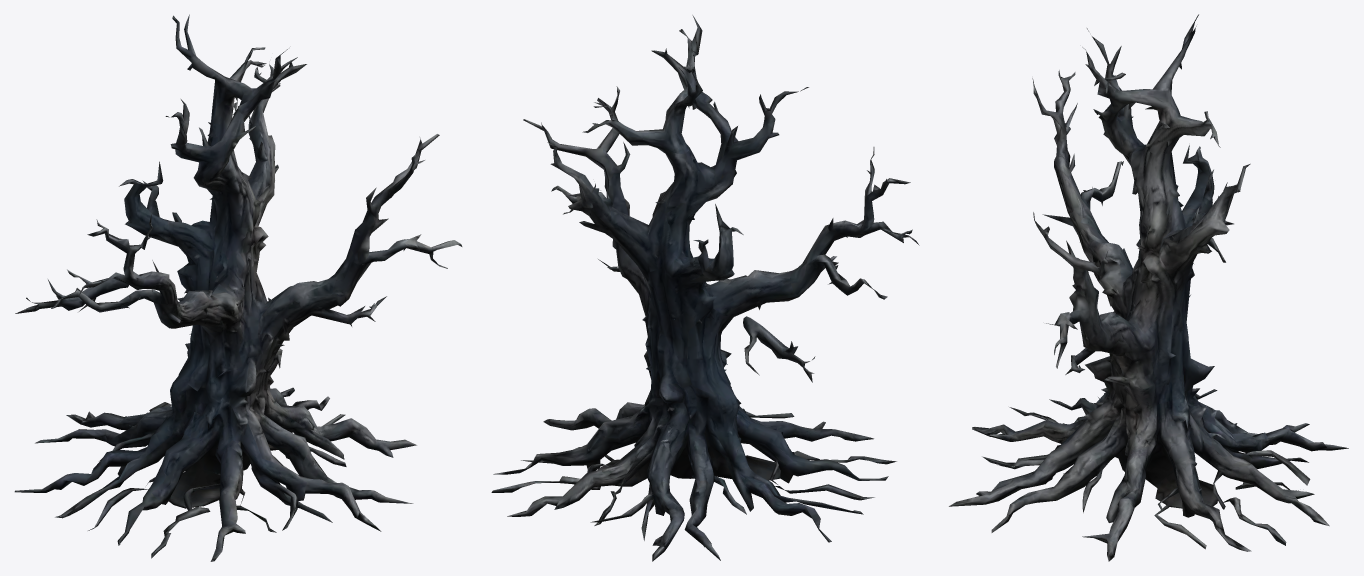
The model's file is deadtree.glb.
3 views of the same model, side by side, from view 1: azimuth 30°, elevation 25°; view 2: azimuth 150°, elevation 25°; view 3: azimuth 270°, elevation 25° (orthographic). The views are drawn at different scales.
Parts seen in each view (by area): view 1: tripo_node_30c30bd2-a13d-4b2b-b644-233c0be9af61; view 2: tripo_node_30c30bd2-a13d-4b2b-b644-233c0be9af61; view 3: tripo_node_30c30bd2-a13d-4b2b-b644-233c0be9af61.
Boxes of the visible parts, x1,y1,x2,y2 form: tripo_node_30c30bd2-a13d-4b2b-b644-233c0be9af61: (14, 14, 462, 561); tripo_node_30c30bd2-a13d-4b2b-b644-233c0be9af61: (491, 15, 919, 561); tripo_node_30c30bd2-a13d-4b2b-b644-233c0be9af61: (949, 14, 1348, 561).
Size of the model in its own units: 0.892 by 0.9862 by 0.7921.
1 material, 1 textured.
